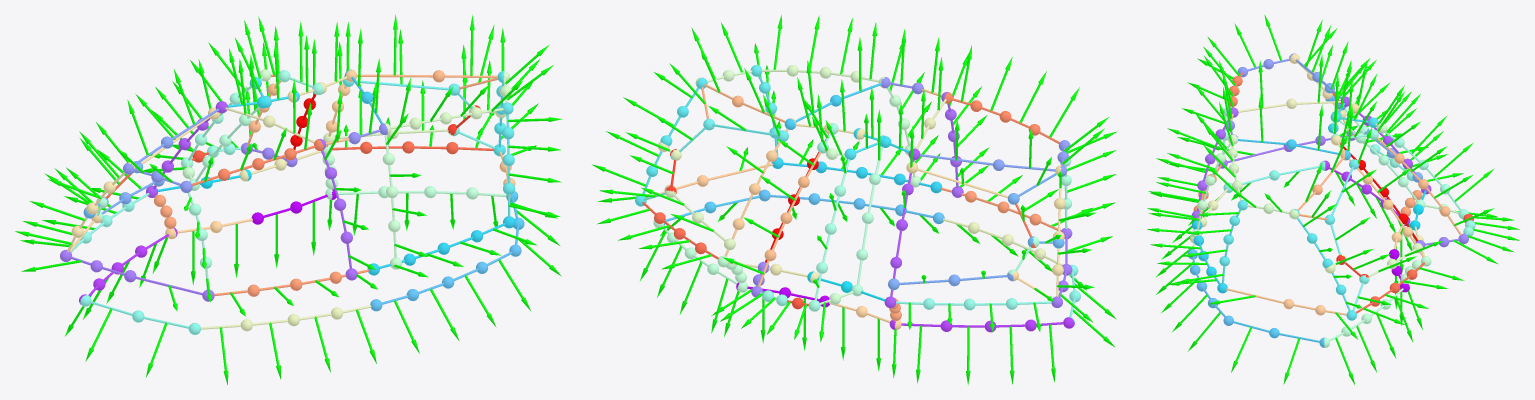
File: ils_speaker.gltf
The picture shows the model from 3 angles, left to right: view 1: azimuth 30°, elevation 25°; view 2: azimuth 150°, elevation 25°; view 3: azimuth 270°, elevation 25°; orthographic projection. The views are drawn at different scales.
Bounding box in the file's own units: 0.9761 × 0.4696 × 0.7098.
